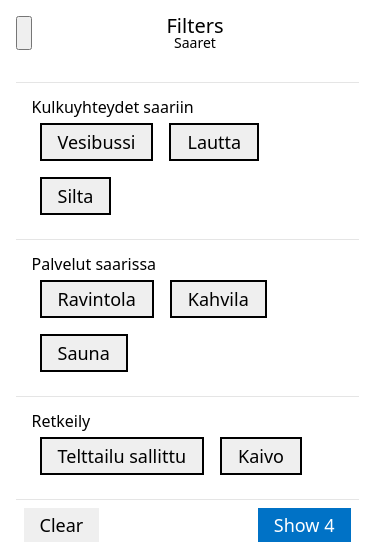
Test case: Filter › 0 matches disables show
The width and height of the screenshot is (376, 559).
Check: the button with class "showButton" is enabled, box [258, 508, 350, 542]
Click the button with class "filterOption" at (214, 142), box [170, 123, 259, 161]
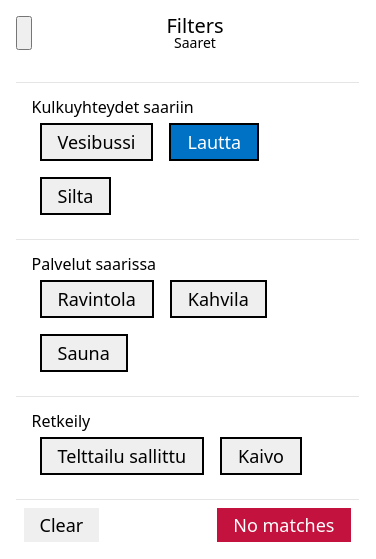
Check: the button with class "showButtonDisabled" is disabled, box [217, 508, 350, 542]
